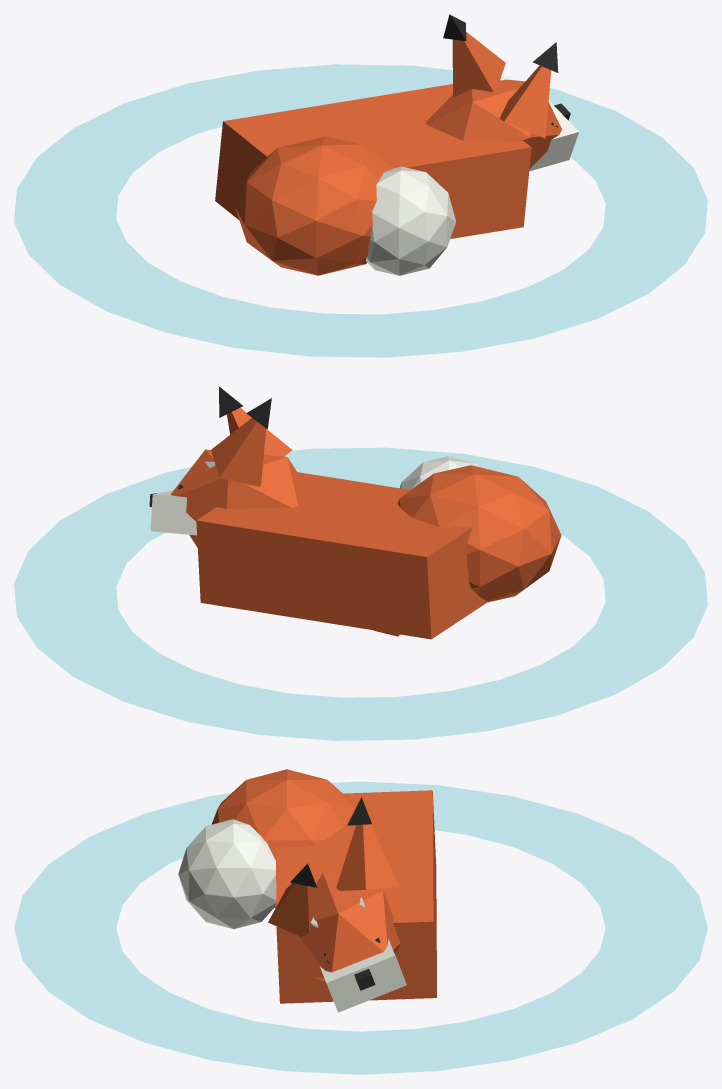
File: fox.glb
The picture shows the model from 3 angles, top to bottom: view 1: azimuth 30°, elevation 25°; view 2: azimuth 150°, elevation 25°; view 3: azimuth 270°, elevation 25°; orthographic projection.
Visible parts, largest first — view 1: fox-glow-ring, fox-sleep-body, n8, n10, n13, n34, n39, n15; view 2: fox-glow-ring, fox-sleep-body, n8, n13, n34, n15, n10, n39; view 3: fox-glow-ring, fox-sleep-body, n10, n8, n13, n15, n34, n39.
Boxes of the visible parts, x1,y1,x2,y2 form: fox-glow-ring: (14, 64, 707, 357); fox-sleep-body: (215, 84, 531, 238); n8: (234, 136, 394, 275); n10: (366, 166, 456, 275); n13: (426, 79, 561, 168); n34: (452, 32, 505, 97); n39: (499, 65, 551, 138); n15: (529, 100, 578, 171); fox-glow-ring: (14, 448, 707, 740); fox-sleep-body: (196, 472, 488, 639); n8: (397, 465, 561, 602); n13: (170, 449, 307, 547); n34: (211, 418, 266, 486); n15: (150, 490, 196, 535); n10: (400, 456, 480, 489); n39: (227, 407, 292, 456); fox-glow-ring: (14, 782, 707, 1074); fox-sleep-body: (276, 790, 436, 1003); n10: (178, 819, 276, 929); n8: (211, 769, 354, 908); n13: (294, 873, 400, 981); n15: (320, 939, 406, 1012); n34: (336, 824, 399, 890); n39: (268, 883, 322, 936).
Bounding box in the file's own units: 1.56 × 0.4726 × 1.56.
